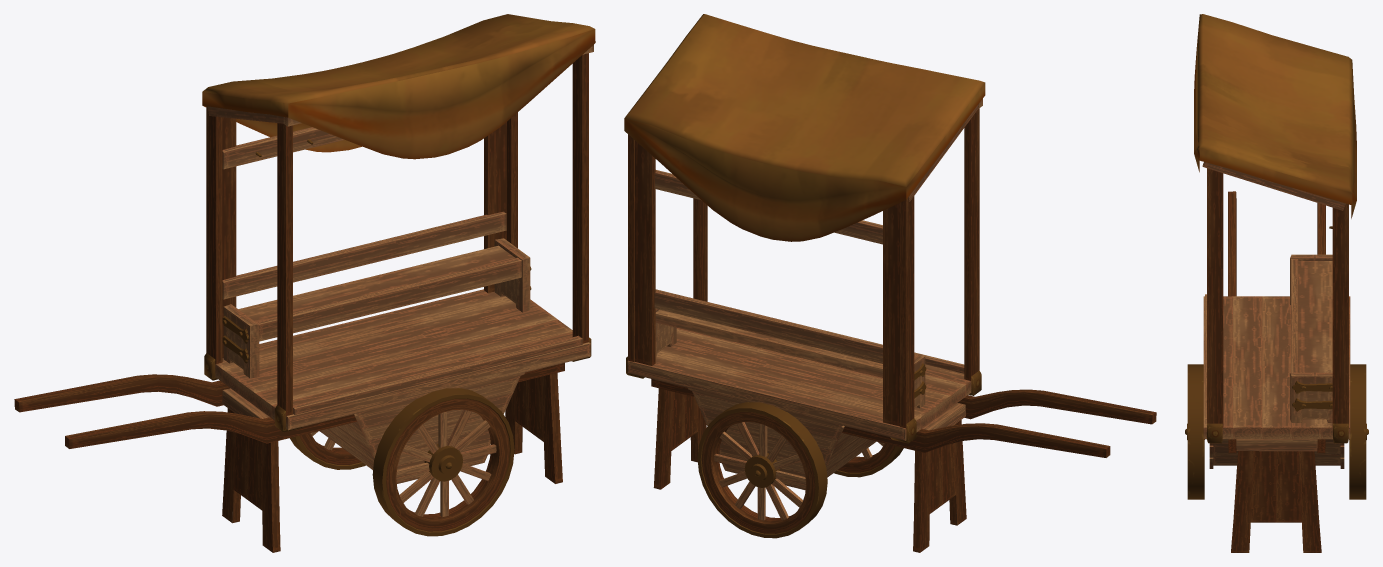
File: Stall_Cart_Empty.glb
The picture shows the model from 3 angles, left to right: view 1: azimuth 30°, elevation 25°; view 2: azimuth 150°, elevation 25°; view 3: azimuth 270°, elevation 25°; orthographic projection. The views are drawn at different scales.
Visible parts, largest first — view 1: Stall_Cart_Empty; view 2: Stall_Cart_Empty; view 3: Stall_Cart_Empty.
Boxes of the visible parts, x1=… form: Stall_Cart_Empty: x1=14, y1=14, x2=595, y2=552; Stall_Cart_Empty: x1=624, y1=14, x2=1156, y2=552; Stall_Cart_Empty: x1=1185, y1=14, x2=1368, y2=552.
Bounding box in the file's own units: 3.02 × 2.63 × 1.06.
3 materials, 3 textured.
